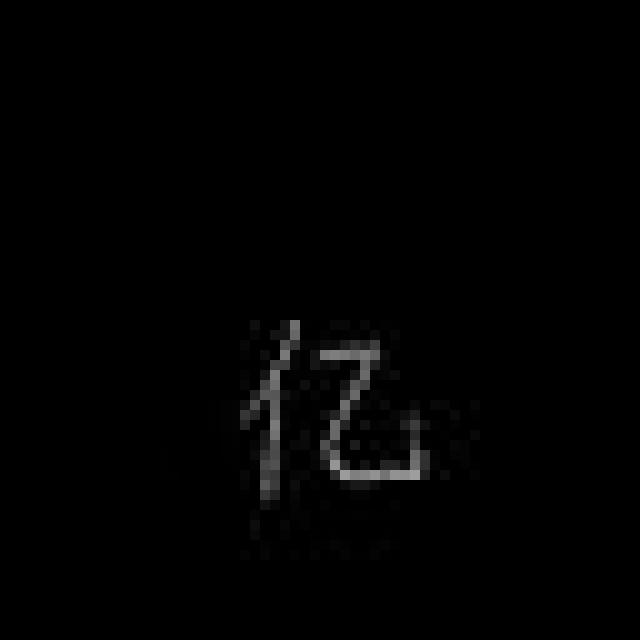100000 -a hundred thousand-: (233, 310, 435, 502)
